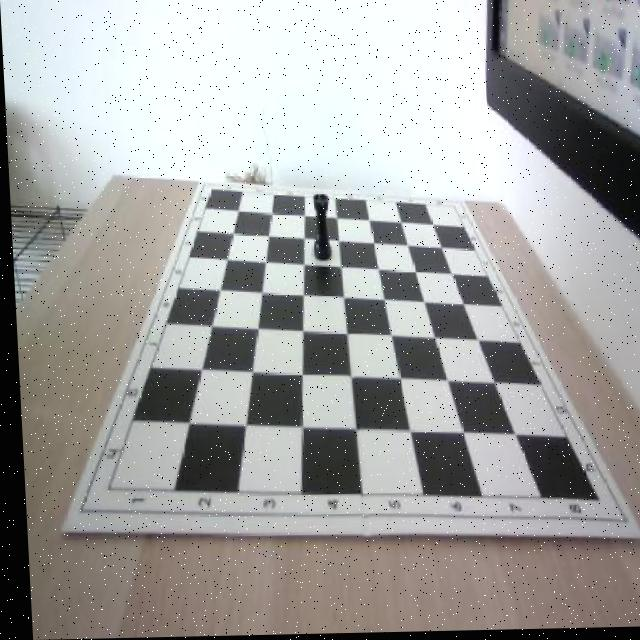black-queen: (308, 193, 331, 263)
